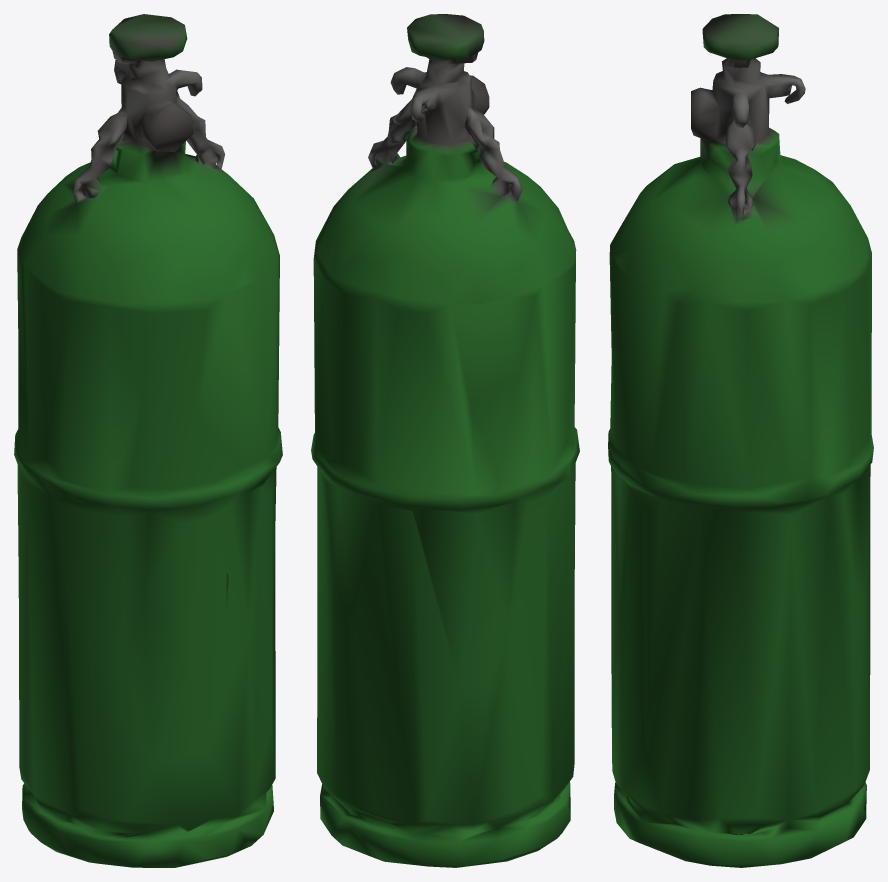
Rendered from gen3d-gas-cylinder-lod1.glb.
The picture shows the model from 3 angles, left to right: view 1: azimuth 30°, elevation 25°; view 2: azimuth 150°, elevation 25°; view 3: azimuth 270°, elevation 25°; orthographic projection.
Visible parts, largest first — view 1: part_0; view 2: part_0; view 3: part_0.
Part boxes in pixels (x1=…): part_0: x1=14, y1=14, x2=282, y2=867; part_0: x1=311, y1=14, x2=579, y2=867; part_0: x1=608, y1=14, x2=873, y2=867.
Bounding box in the file's own units: 0.3067 × 0.9994 × 0.3054.
